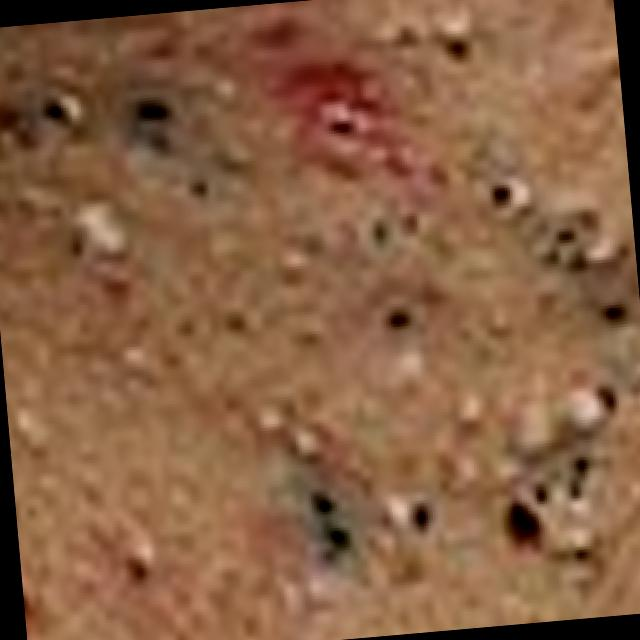blackhead: (0, 87, 44, 158), (500, 498, 547, 555), (116, 543, 162, 588), (36, 88, 80, 132), (132, 86, 176, 130), (302, 477, 339, 523), (564, 448, 594, 500), (142, 120, 176, 163), (180, 167, 216, 207), (322, 517, 356, 559), (218, 302, 254, 340), (62, 222, 92, 266), (598, 293, 633, 330), (597, 375, 625, 421), (408, 496, 436, 540), (386, 298, 416, 336), (365, 214, 391, 253), (161, 339, 189, 374), (552, 220, 582, 248), (388, 23, 419, 50), (174, 309, 198, 343), (0, 55, 26, 86), (485, 183, 513, 211), (562, 248, 589, 276), (540, 240, 562, 274), (568, 538, 592, 568), (530, 477, 552, 508), (426, 160, 450, 188), (446, 36, 472, 59), (398, 211, 420, 238)
